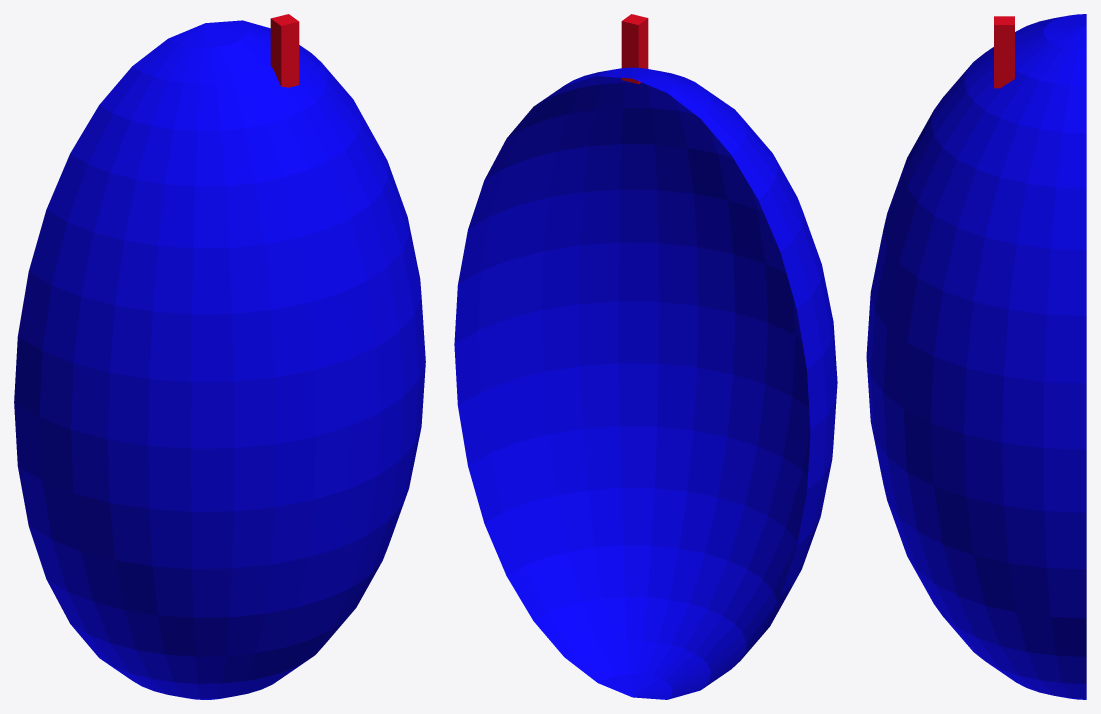
The model's file is saver.fbx.
The picture shows the model from 3 angles, left to right: view 1: azimuth 30°, elevation 25°; view 2: azimuth 150°, elevation 25°; view 3: azimuth 270°, elevation 25°; orthographic projection. The views are drawn at different scales.
Parts seen in each view (by area): view 1: Sphere, Cube; view 2: Sphere, Cube; view 3: Sphere, Cube.
Boxes of the visible parts, <box> form: Sphere: <box>14,20,425,699</box>; Cube: <box>270,14,299,87</box>; Sphere: <box>454,67,837,699</box>; Cube: <box>621,14,648,84</box>; Sphere: <box>866,14,1086,699</box>; Cube: <box>994,16,1014,88</box>.
Bounding box in the file's own units: 78.08 × 134 × 39.04.
